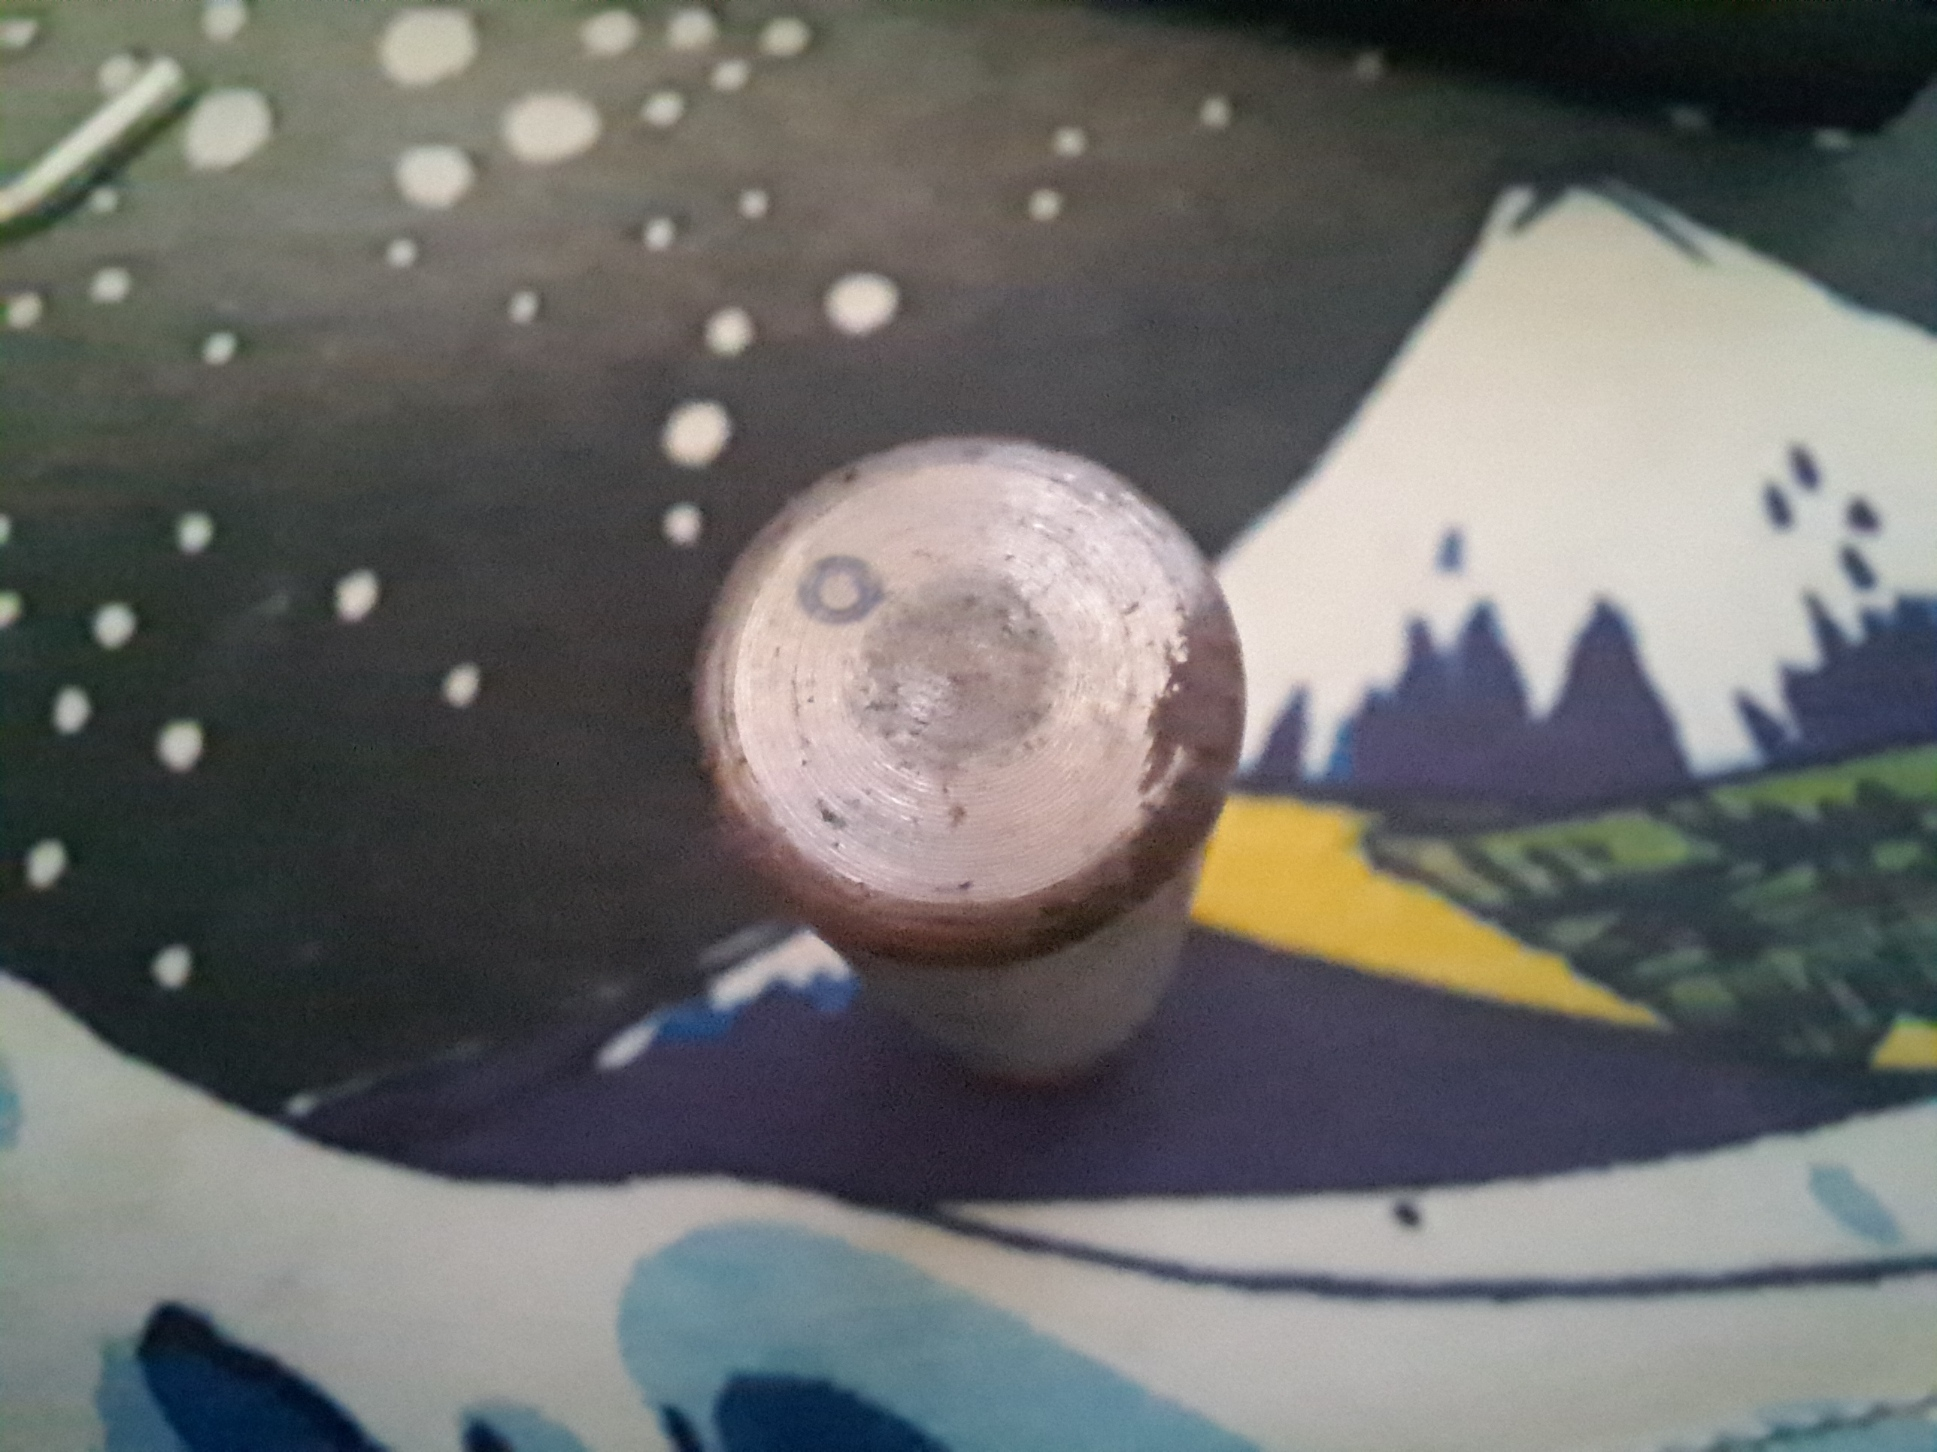плансон: (695, 433, 1249, 1091)
повреждение: (793, 554, 891, 627)
